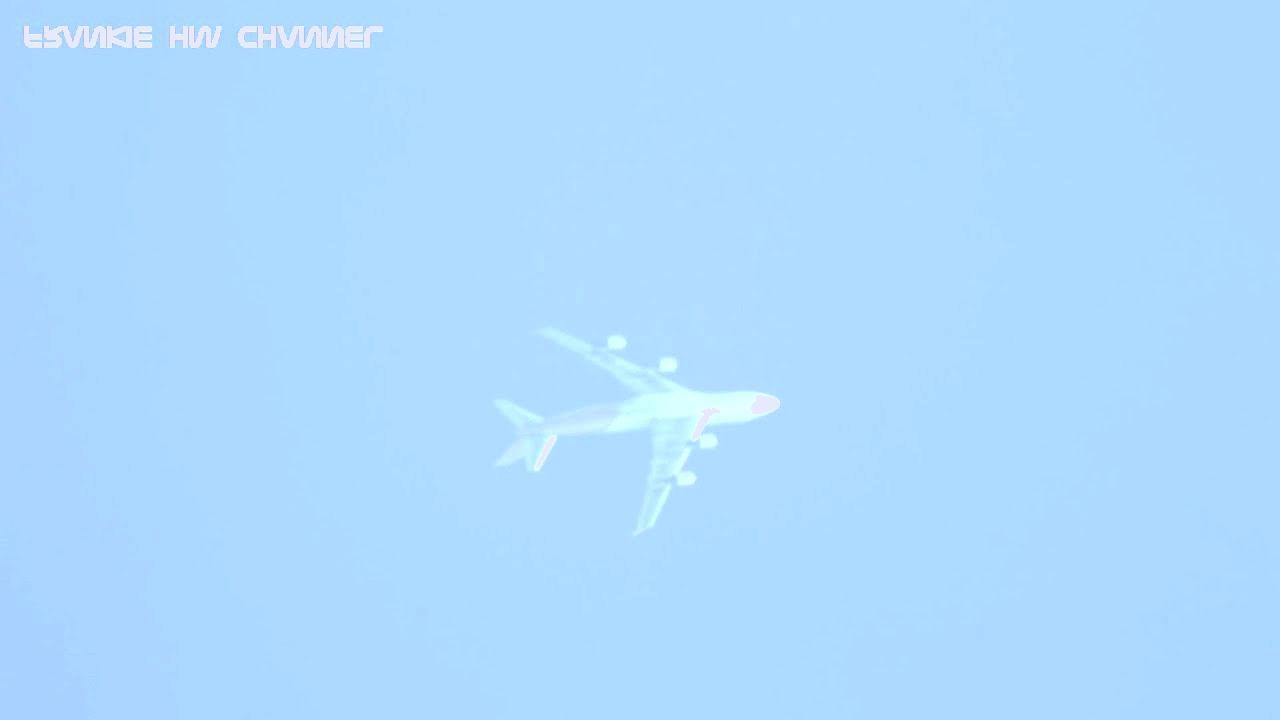Plane: (424, 306, 850, 548)
